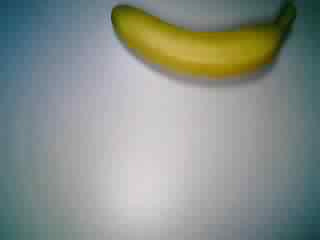banana: (103, 2, 303, 86)
